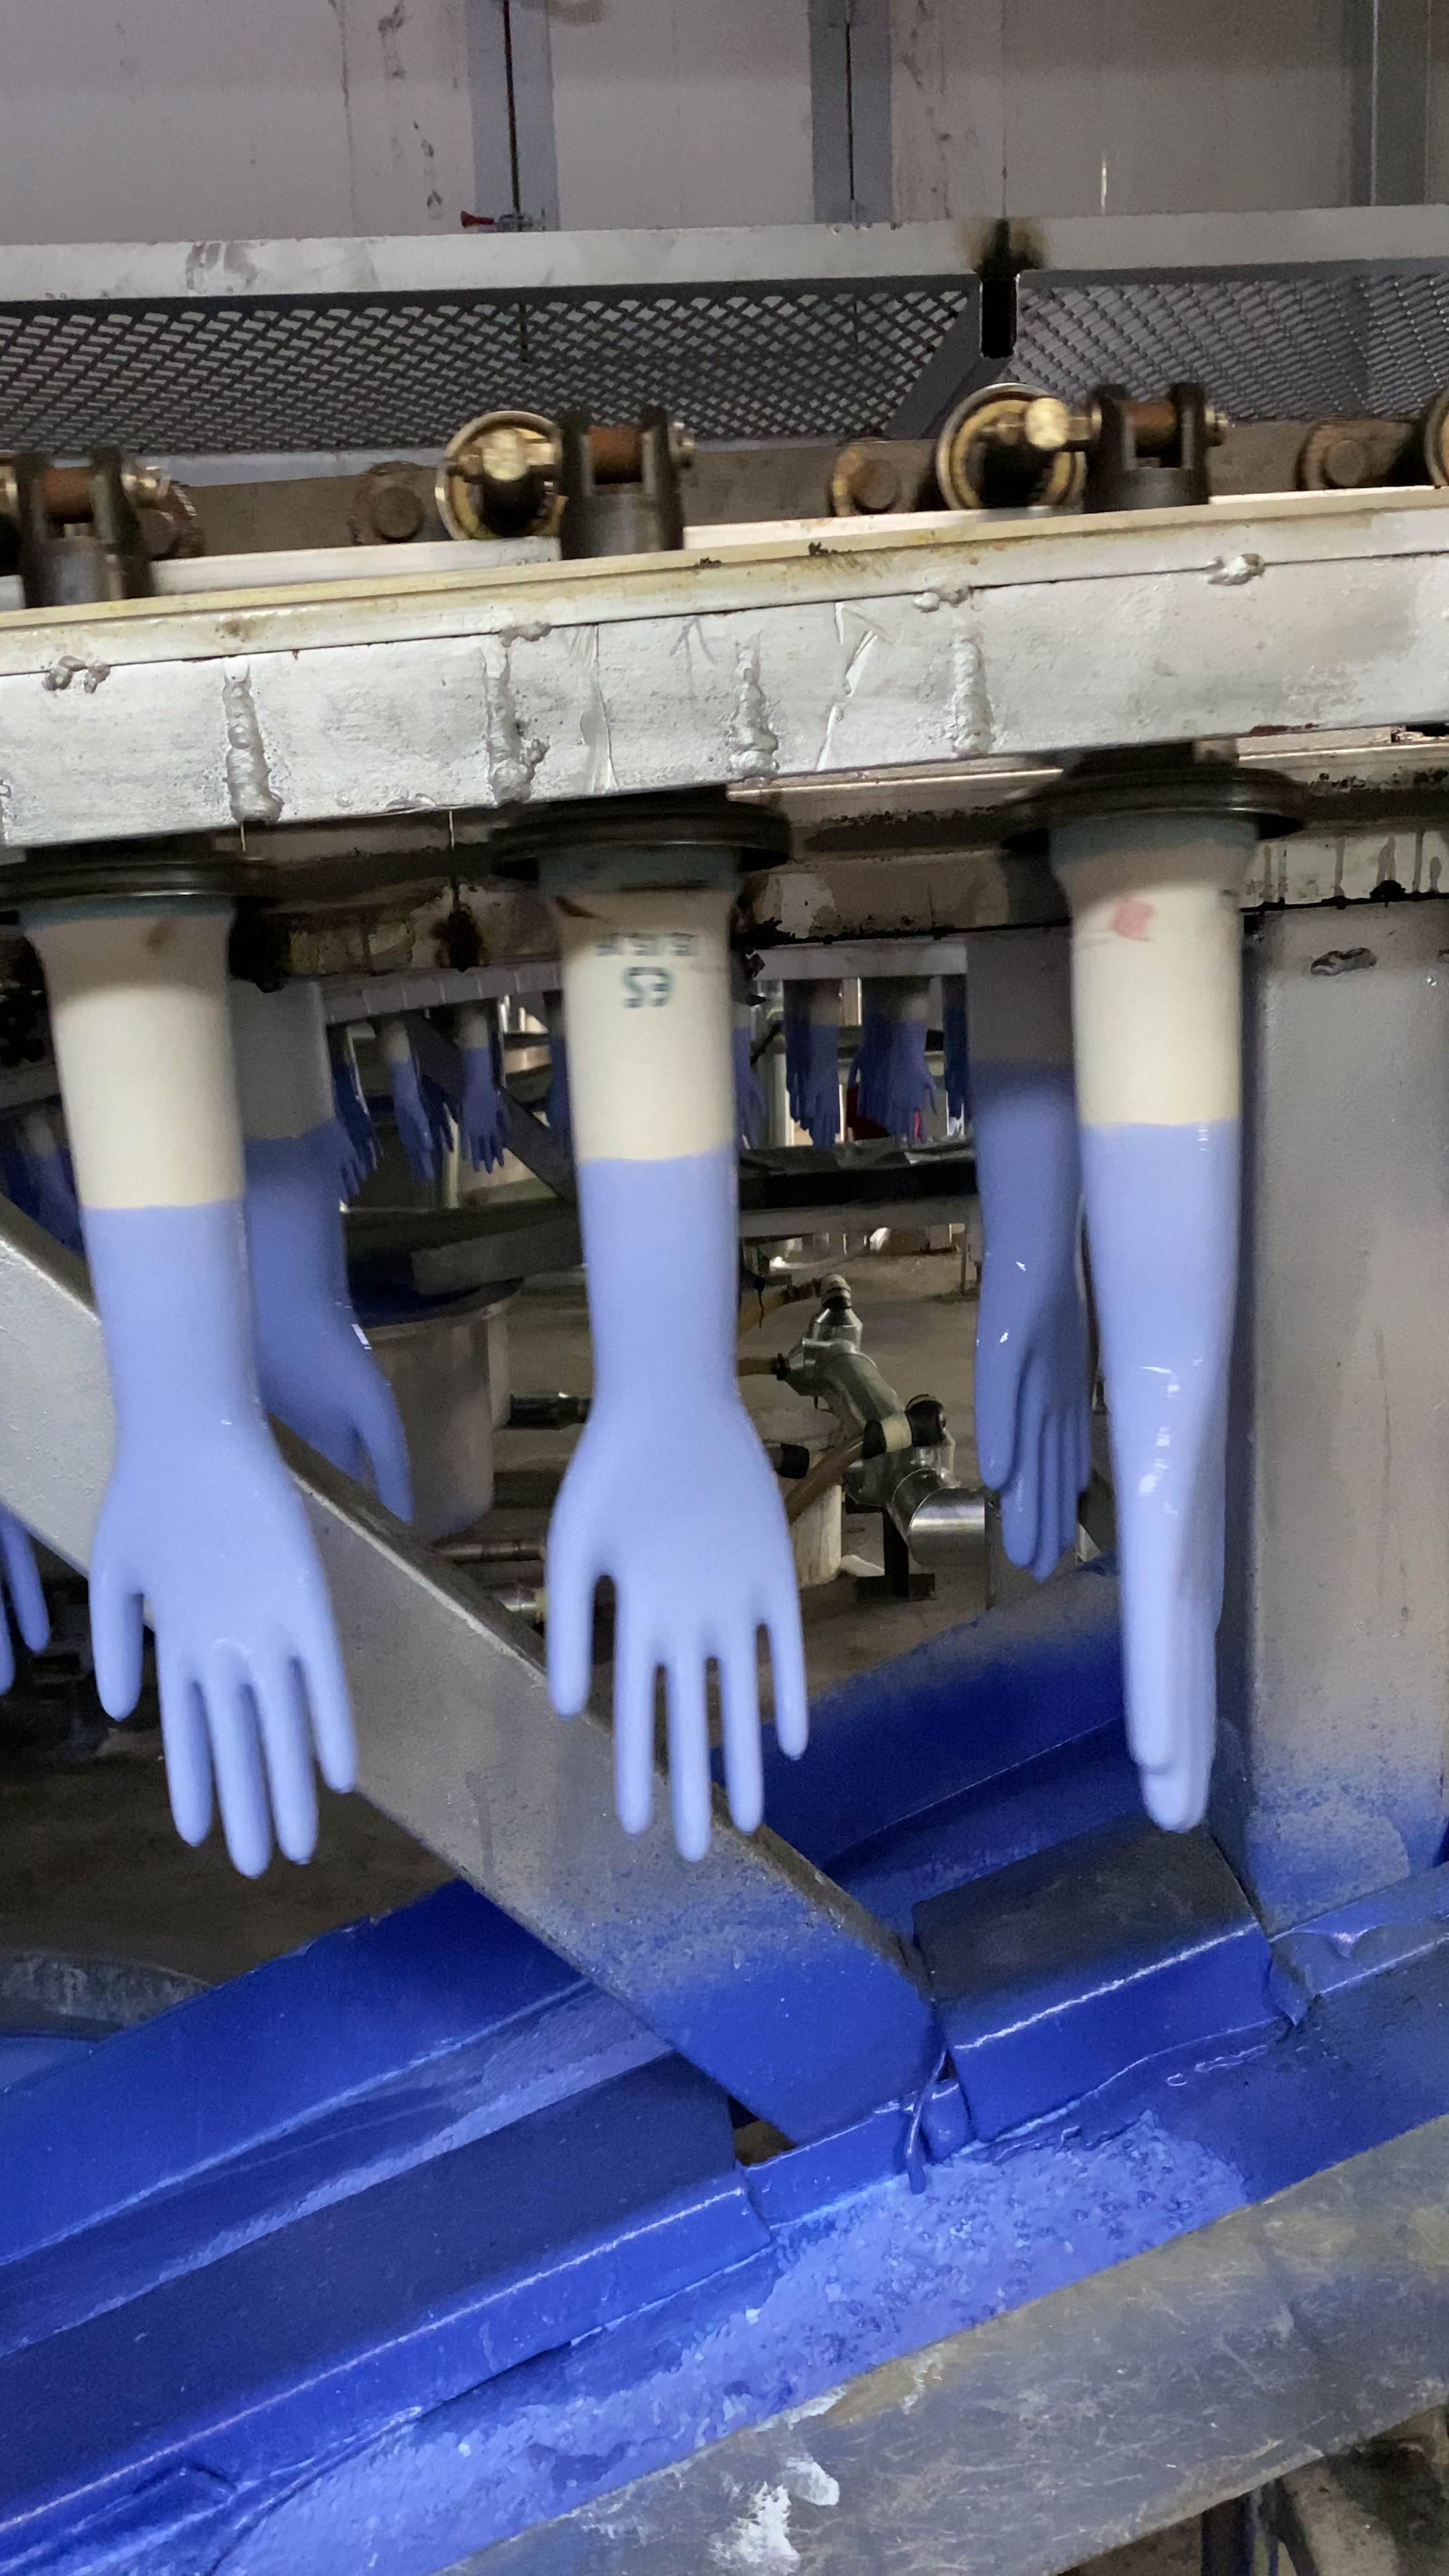glove: (545, 1157, 810, 1859), (88, 1194, 354, 1872), (1077, 1118, 1240, 1833), (235, 1129, 414, 1523), (973, 1053, 1092, 1582), (460, 1046, 511, 1173), (384, 1060, 435, 1182), (886, 1028, 939, 1138), (800, 1024, 842, 1152), (727, 1026, 764, 1145)
